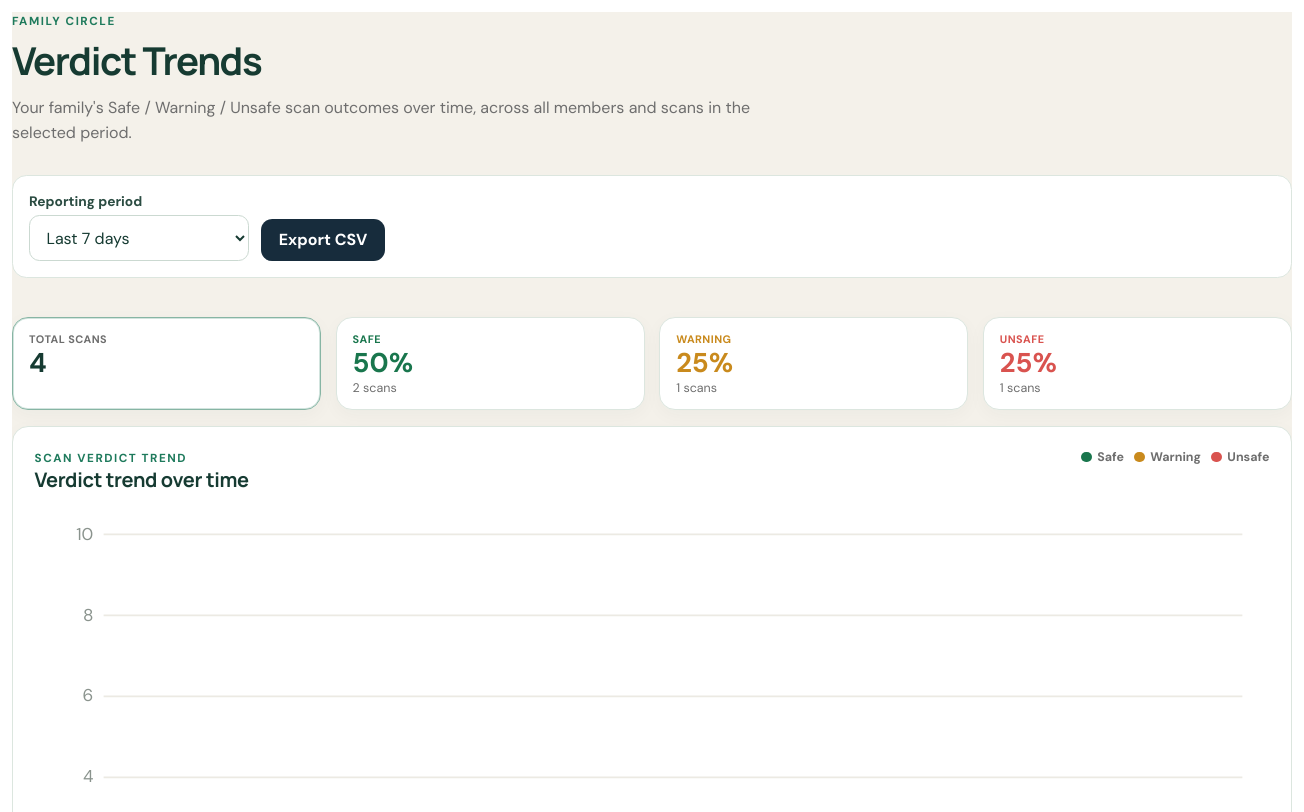
Test: VerdictTrendsPage › exports the visible daily series as CSV
This screenshot has width=1304, height=812.
Click the button "Export CSV" at coordinates (323, 240), box [261,219,385,261]
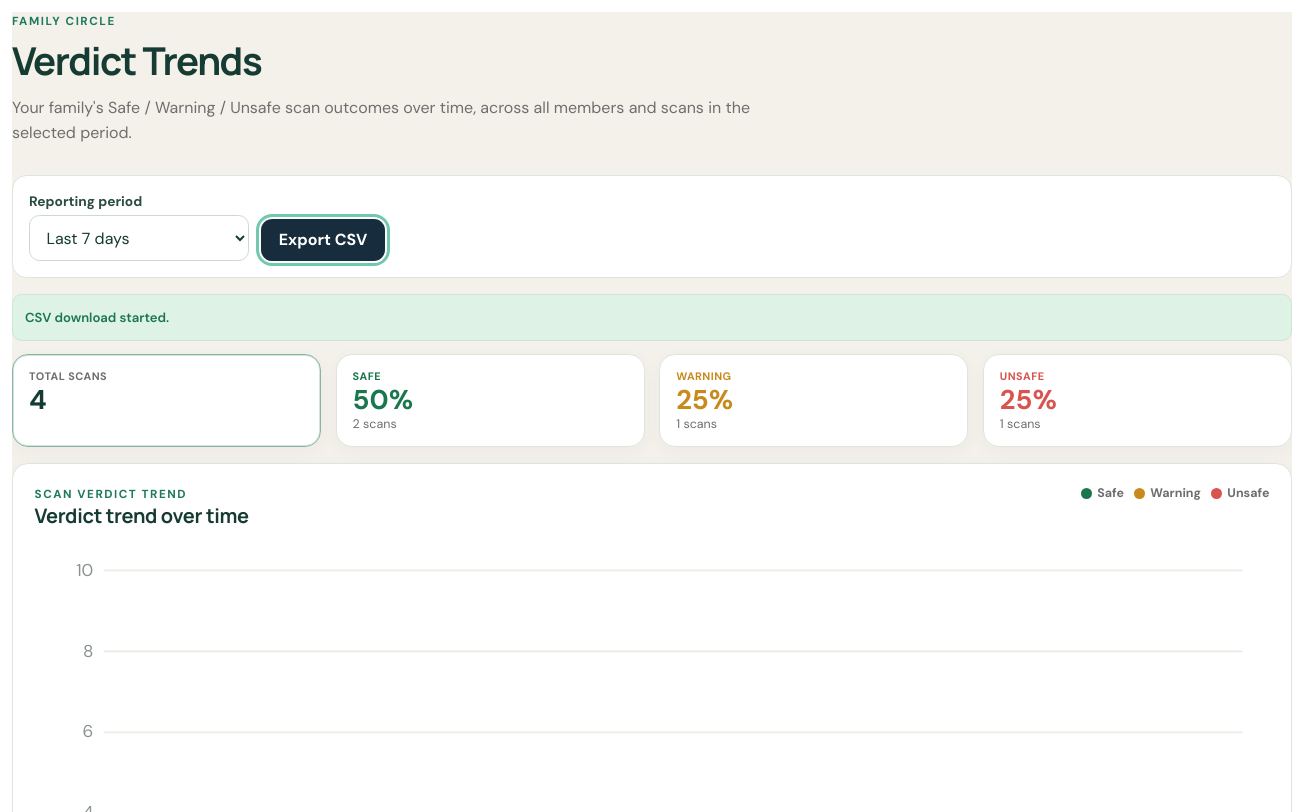
Result: the text "CSV download started." is shown at [12,294,1292,341]
